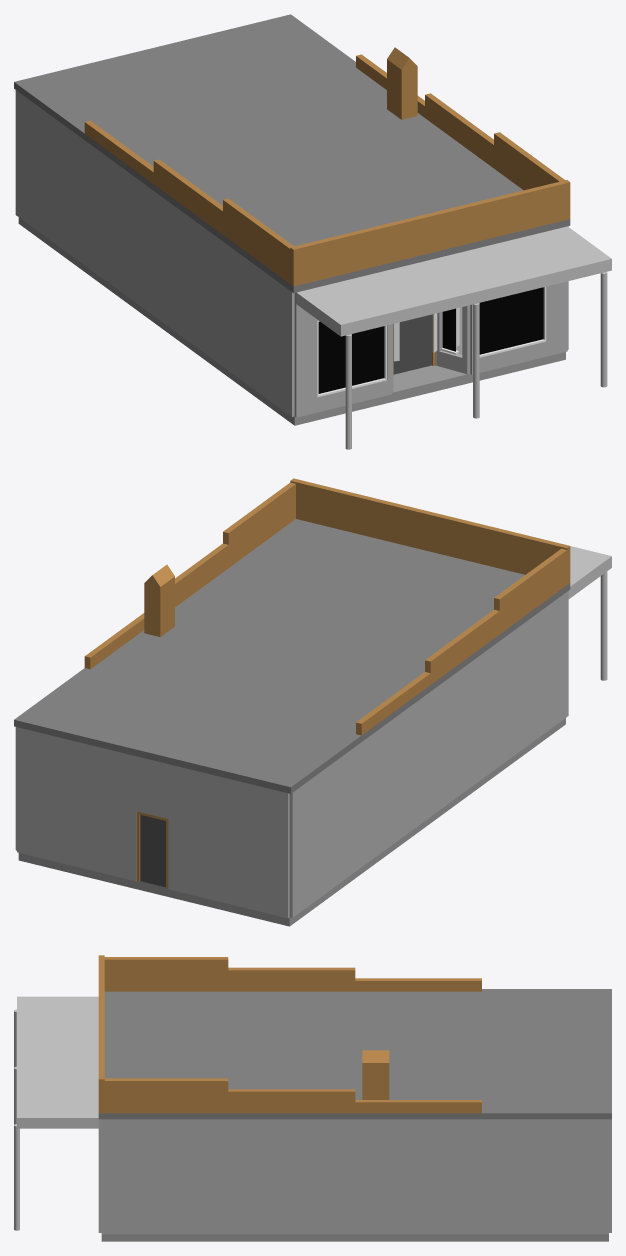
Rendered from building_phase_1b_iter_010.glb.
The picture shows the model from 3 angles, top to bottom: view 1: azimuth 30°, elevation 25°; view 2: azimuth 150°, elevation 25°; view 3: azimuth 270°, elevation 25°; orthographic projection. The views are drawn at different scales.
Visible parts, largest first — view 1: Roof, Wall_Left, Canopy_Roof, Parapet_Front, Wall_Front, Foundation, Front_Left_Window_Glass, Front_Right_Window_Glass, Parapet_Left_Level_1, Parapet_Right_Level_1, Parapet_Left_Level_2, Parapet_Right_Level_2 (+9 smaller); view 2: Roof, Wall_Left, Wall_Rear, Parapet_Front, Foundation, Parapet_Left_Level_1, Parapet_Right_Level_1, Parapet_Left_Level_2, Rear_Service_Door_Panel, Parapet_Right_Level_2, Chimney, Canopy_Roof (+3 smaller); view 3: Wall_Right, Roof, Canopy_Roof, Parapet_Right_Level_1, Parapet_Left_Level_1, Foundation, Parapet_Left_Level_2, Parapet_Right_Level_2, Parapet_Left_Level_3, Parapet_Right_Level_3, Parapet_Front, Chimney (+2 smaller).
Boxes of the visible parts, x1,y1,x2,y2 form: Roof: (14,14,570,293); Wall_Left: (15,90,294,416); Canopy_Roof: (296,226,611,336); Parapet_Front: (290,180,570,286); Wall_Front: (294,281,567,417); Foundation: (18,217,565,425); Front_Left_Window_Glass: (318,321,384,393); Front_Right_Window_Glass: (479,287,543,354); Parapet_Left_Level_1: (223,198,293,283); Parapet_Right_Level_1: (494,132,564,190); Parapet_Left_Level_2: (153,159,222,234); Parapet_Right_Level_2: (425,93,493,168); Roof: (14,519,570,793); Wall_Left: (289,591,568,917); Wall_Rear: (17,727,289,918); Parapet_Front: (290,478,570,584); Foundation: (18,718,565,926); Parapet_Left_Level_1: (494,548,567,633); Parapet_Right_Level_1: (223,482,295,567); Parapet_Left_Level_2: (425,609,499,684); Rear_Service_Door_Panel: (140,815,165,887); Parapet_Right_Level_2: (175,543,228,606); Chimney: (144,576,174,636); Canopy_Roof: (568,546,611,598); Wall_Right: (101,1119,608,1234); Roof: (98,989,611,1119); Canopy_Roof: (17,996,101,1128); Parapet_Right_Level_1: (101,1078,228,1113); Parapet_Left_Level_1: (104,957,228,991); Foundation: (101,1234,608,1241); Parapet_Left_Level_2: (228,967,355,991); Parapet_Right_Level_2: (228,1089,355,1113); Parapet_Left_Level_3: (355,978,481,991); Parapet_Right_Level_3: (355,1100,481,1113); Parapet_Front: (98,955,104,1113); Chimney: (362,1063,389,1099).
Bounding box in the file's own units: 8.68 × 6.03 × 17.68.
